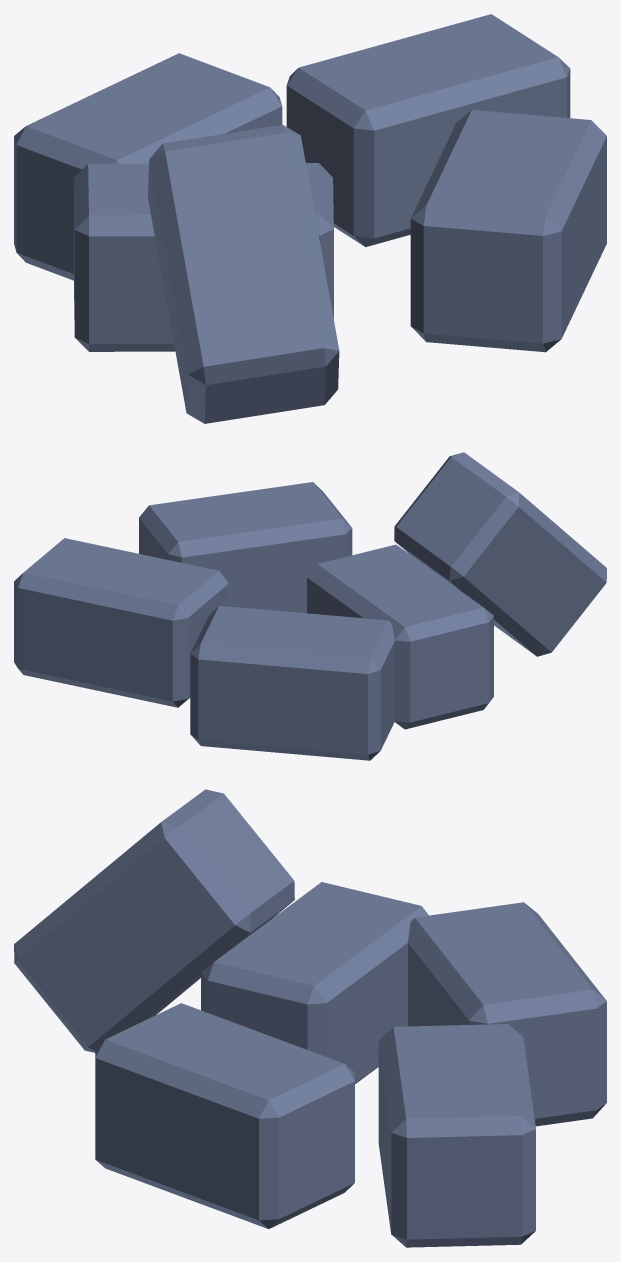
The model's file is bricks-001.glb.
The picture shows the model from 3 angles, top to bottom: view 1: azimuth 30°, elevation 25°; view 2: azimuth 150°, elevation 25°; view 3: azimuth 270°, elevation 25°; orthographic projection. The views are drawn at different scales.
Visible parts, largest first — view 1: bricks.001; view 2: bricks.001; view 3: bricks.001.
Boxes of the visible parts, left/top/right/bottom form: bricks.001: left=14, top=14, right=606, bottom=423; bricks.001: left=14, top=452, right=606, bottom=760; bricks.001: left=14, top=789, right=606, bottom=1247.
Bounding box in the file's own units: 1.33 × 0.5799 × 1.29.
